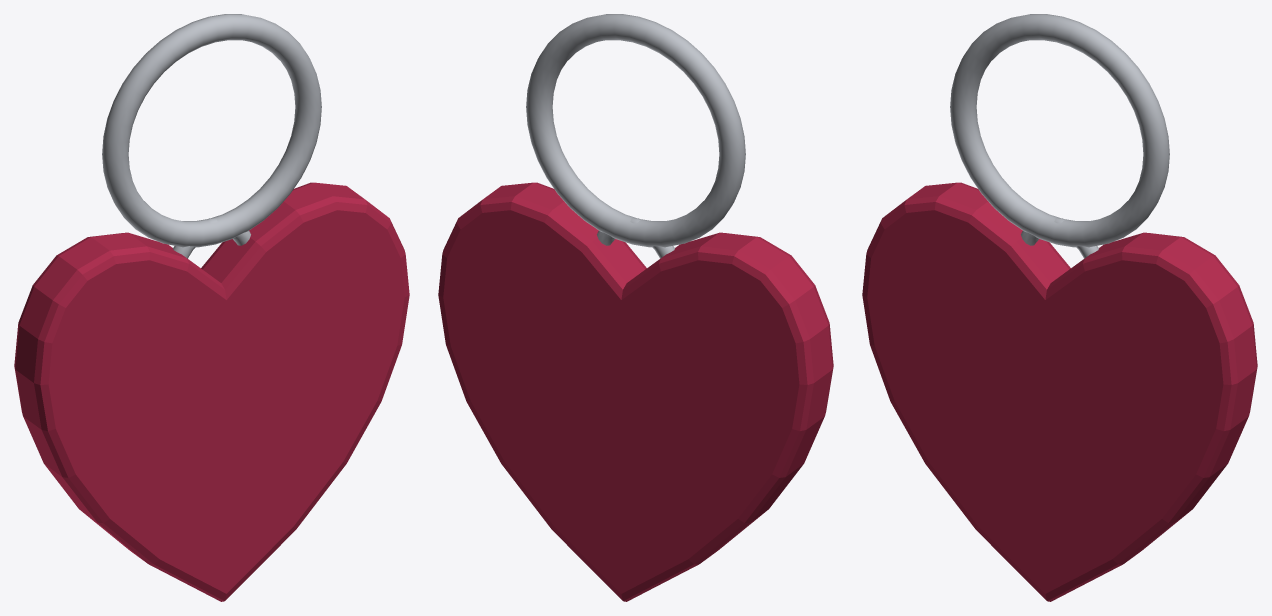
The model's file is keyring.glb.
The picture shows the model from 3 angles, left to right: view 1: azimuth 30°, elevation 25°; view 2: azimuth 150°, elevation 25°; view 3: azimuth 330°, elevation 25°; orthographic projection.
Visible parts, largest first — view 1: DRAFT_keyring; view 2: DRAFT_keyring; view 3: DRAFT_keyring.
Part boxes in pixels (box(x1,y1,x2,y2)): DRAFT_keyring: box(14, 14, 409, 601); DRAFT_keyring: box(438, 14, 833, 601); DRAFT_keyring: box(862, 14, 1257, 601).
Bounding box in the file's own units: 0.0814 × 0.12 × 0.011.
